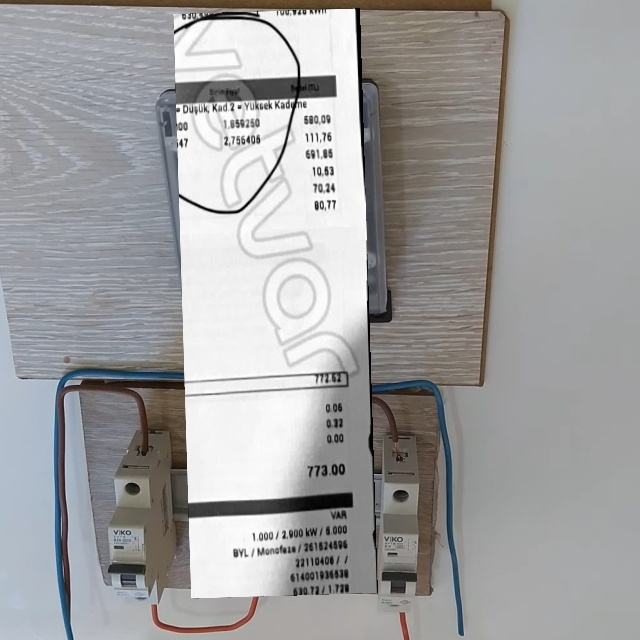electricity-bill: (173, 8, 378, 599)
